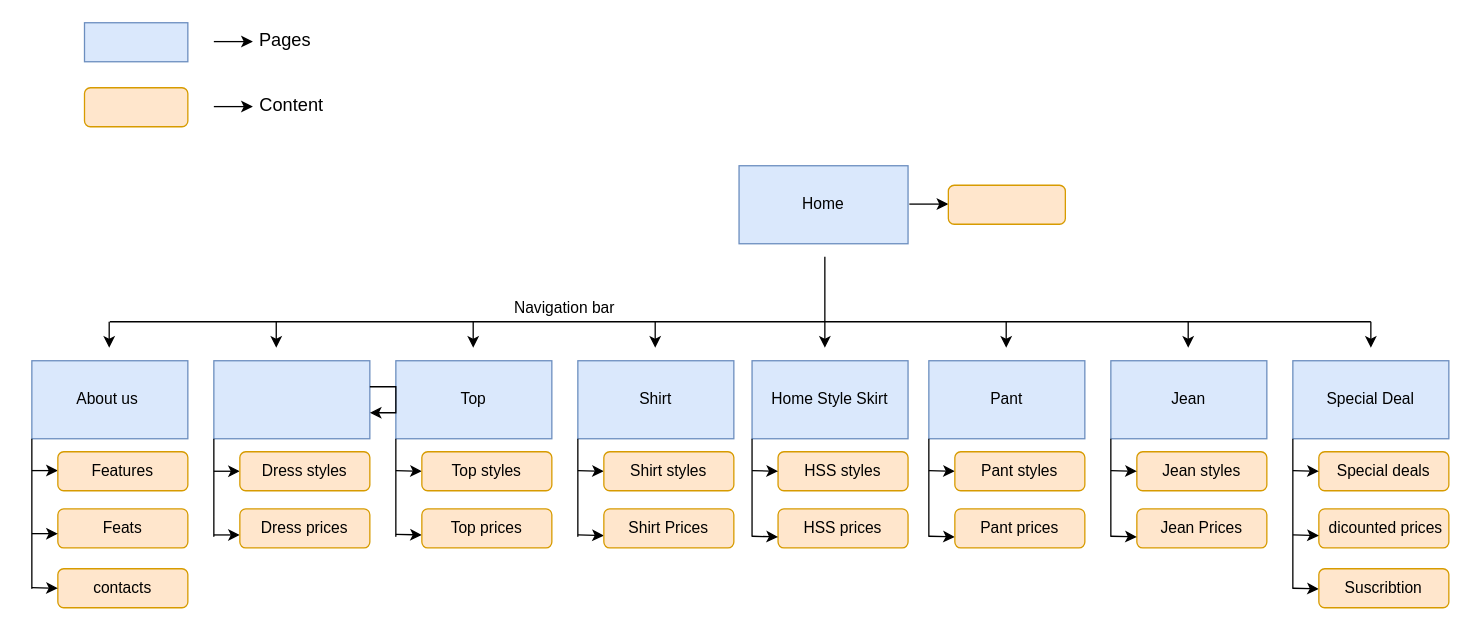
This 1472x631 diagram has some shape labels left out. Each missing label, with the centre of its shape:
Dresses: the point at 291,399
Reviews: the point at 1006,204
